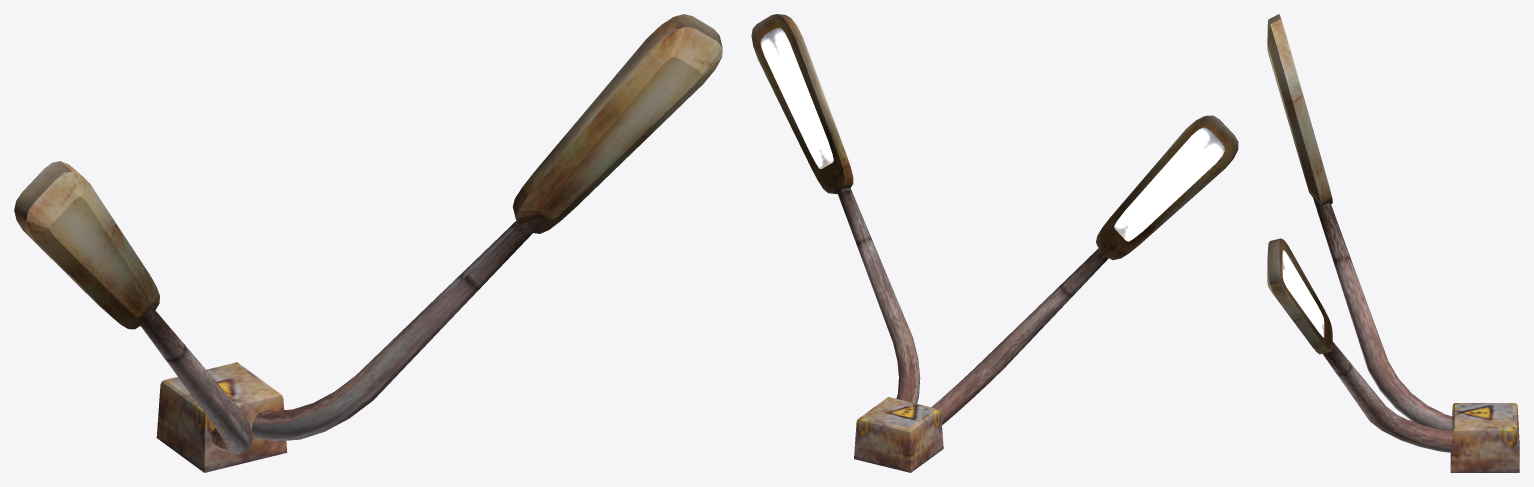
The model's file is LampPostDouble_Wall_ALL.FBX.
3 views of the same model, side by side, from view 1: azimuth 30°, elevation 25°; view 2: azimuth 150°, elevation 25°; view 3: azimuth 270°, elevation 25° (orthographic). The views are drawn at different scales.
Parts seen in each view (by area): view 1: StreetLampDouble_Wall_LOD0; view 2: StreetLampDouble_Wall_LOD0, Source2, Source1; view 3: StreetLampDouble_Wall_LOD0, Source1.
Part boxes in pixels (x1,y1,x2,y2): StreetLampDouble_Wall_LOD0: [14, 14, 722, 472]; StreetLampDouble_Wall_LOD0: [751, 14, 1238, 472]; Source2: [1114, 127, 1224, 241]; Source1: [760, 28, 833, 168]; StreetLampDouble_Wall_LOD0: [1267, 14, 1519, 472]; Source1: [1282, 250, 1324, 337].
Size of what is drawn, in the model's own units: 2623 by 1648 by 1127.
